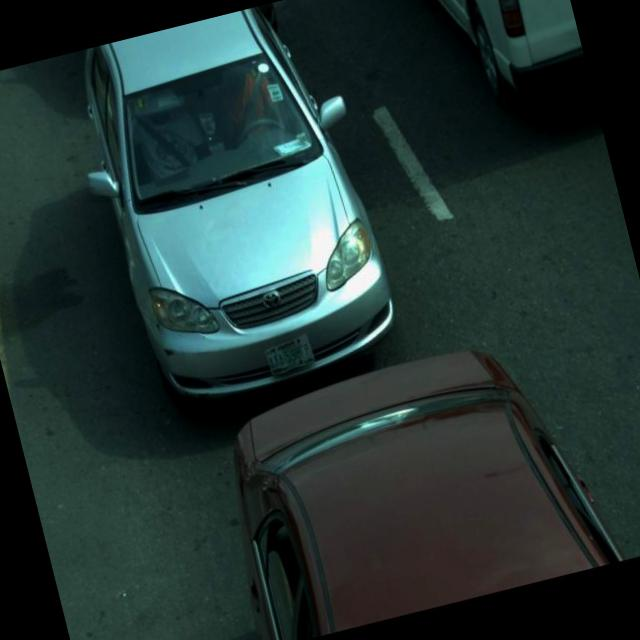person_with_seatbelt: (207, 58, 288, 150)
